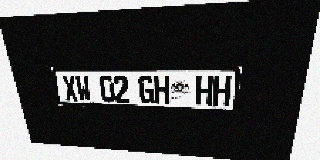0: (99, 75, 116, 102)
2: (113, 75, 130, 103)
G: (138, 75, 154, 104)
H: (212, 76, 232, 106), (196, 76, 213, 106), (154, 75, 170, 104)
W: (75, 75, 92, 102)
X: (61, 75, 79, 101)
